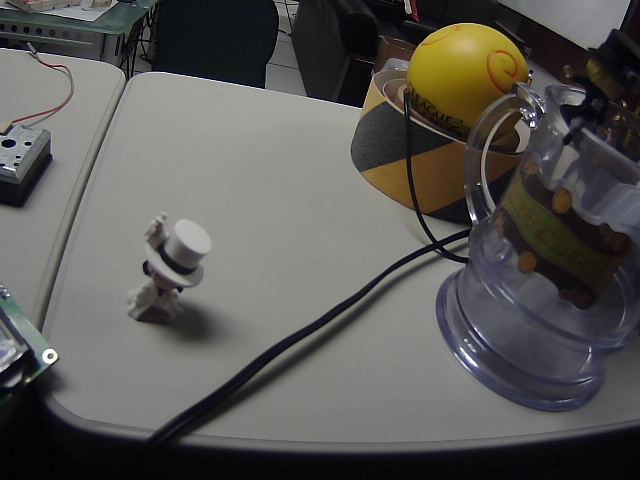lucci: (116, 207, 221, 344)
